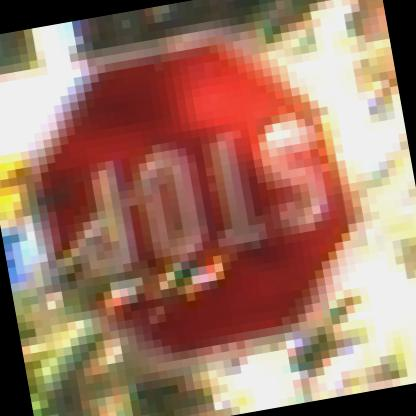stop: (20, 16, 374, 386)
